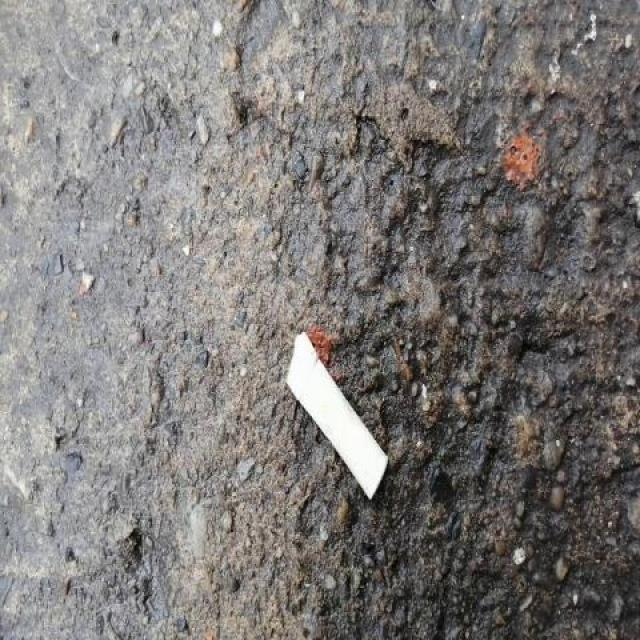non-organic waste: (284, 327, 392, 500)
